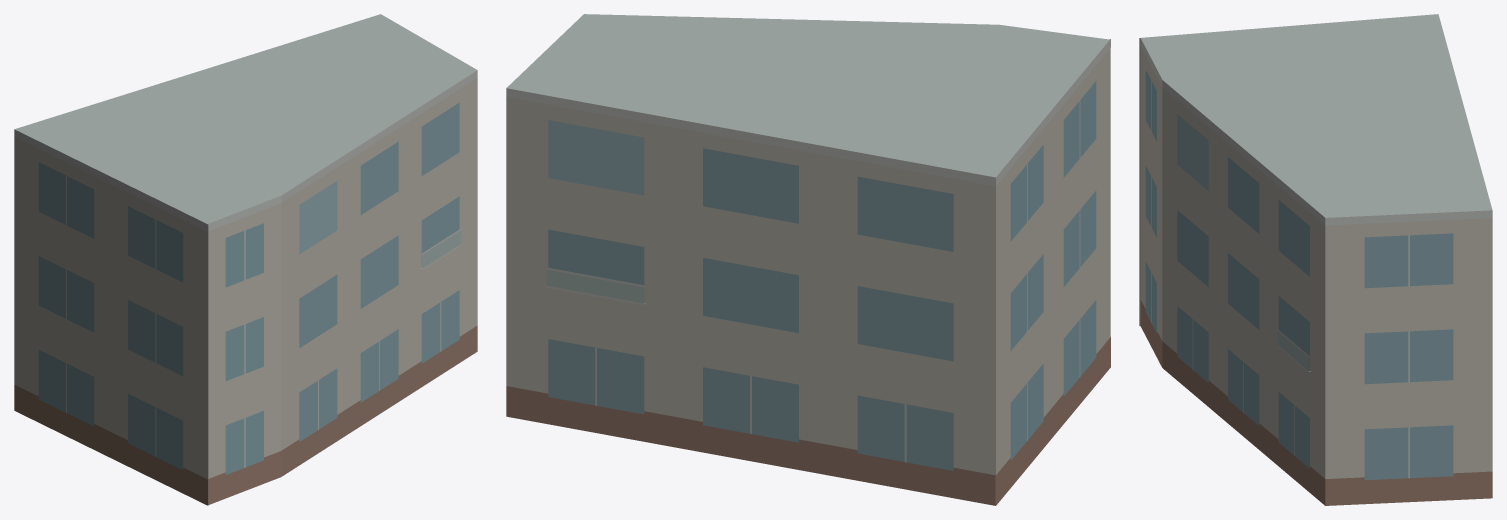
The model's file is survey-upis-32651763.glb.
The picture shows the model from 3 angles, left to right: view 1: azimuth 30°, elevation 25°; view 2: azimuth 150°, elevation 25°; view 3: azimuth 270°, elevation 25°; orthographic projection. The views are drawn at different scales.
Visible parts, largest first — view 1: survey-upis-32651763.tmp; view 2: survey-upis-32651763.tmp; view 3: survey-upis-32651763.tmp.
Part boxes in pixels (box(x1,y1,x2,y2)): survey-upis-32651763.tmp: box(14, 14, 477, 505); survey-upis-32651763.tmp: box(506, 14, 1110, 505); survey-upis-32651763.tmp: box(1139, 14, 1492, 505).
Bounding box in the file's own units: 13.9 × 9.15 × 10.18.
